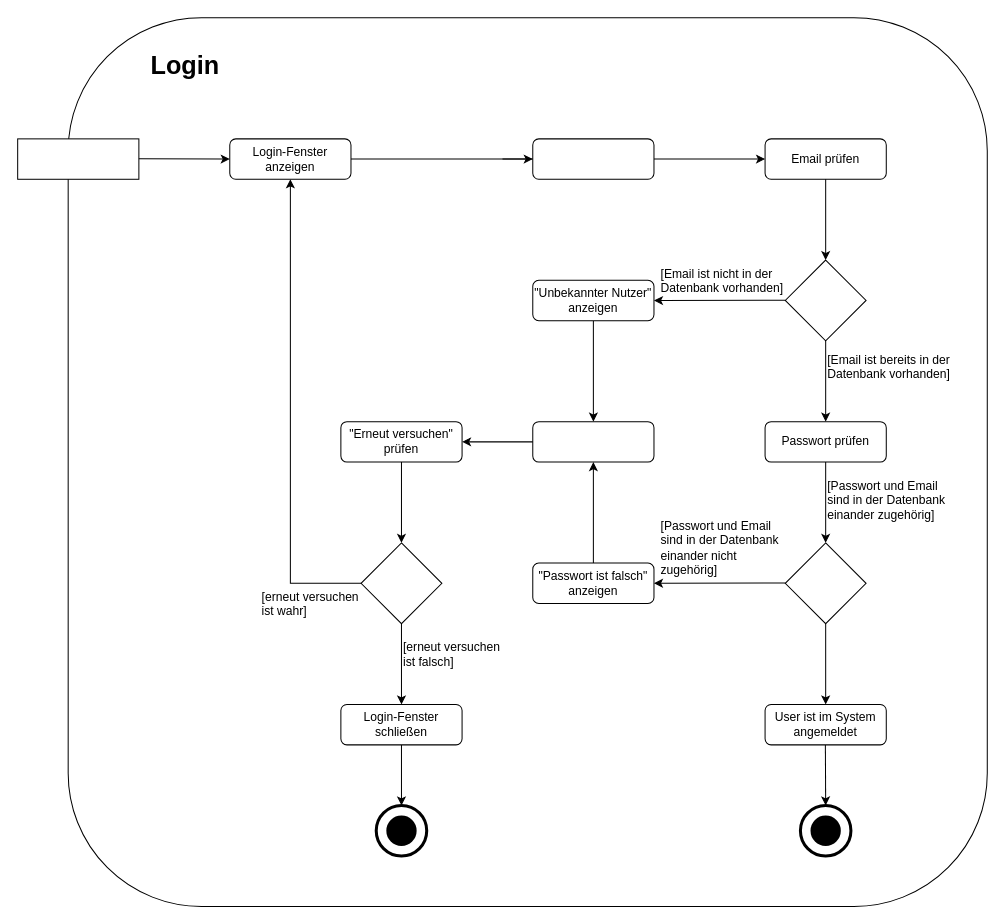
Some shapes in this 1005 by 924 pixel diagram are drawn without their labels. The centre of each missing label's shape, as x and y in pixels:
Nutzer drückt "anmelden": point (78, 158)
Nutzer entscheidet, ob erneuter Versuch: point (593, 441)
Nutzer gibt Email und Passwort an: point (593, 158)
